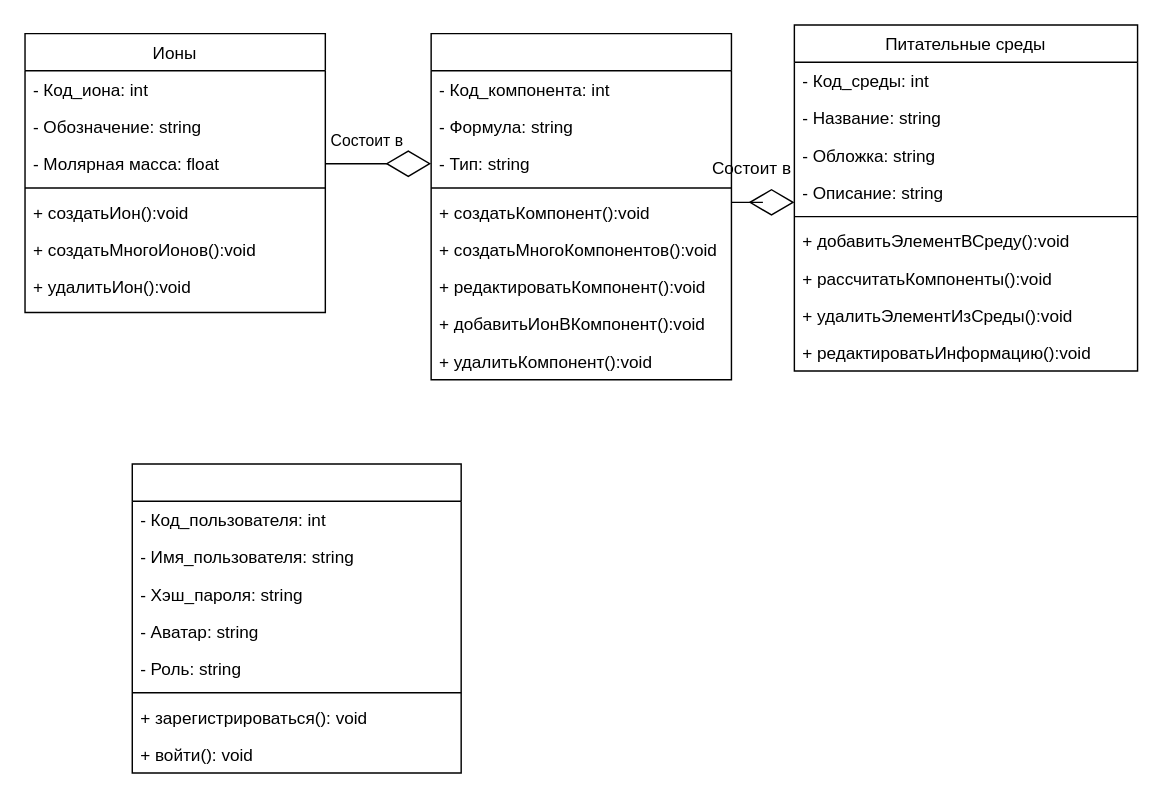
The diagram is 1163 pixels wide and 802 high, and some of its shapes have lost their labels. The box of each missing label's shape, as (x1, y1, x2, y2) in pixels:
Компоненты: (430, 32, 731, 380)
Пользователи: (131, 463, 461, 773)
